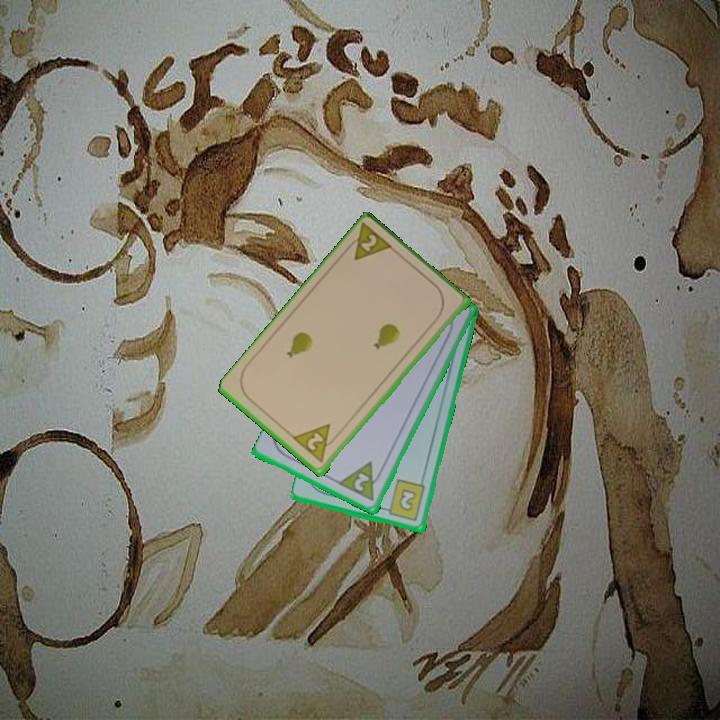2b: (380, 477, 428, 524)
2p: (340, 220, 397, 264), (290, 420, 342, 466), (350, 469, 373, 495)
